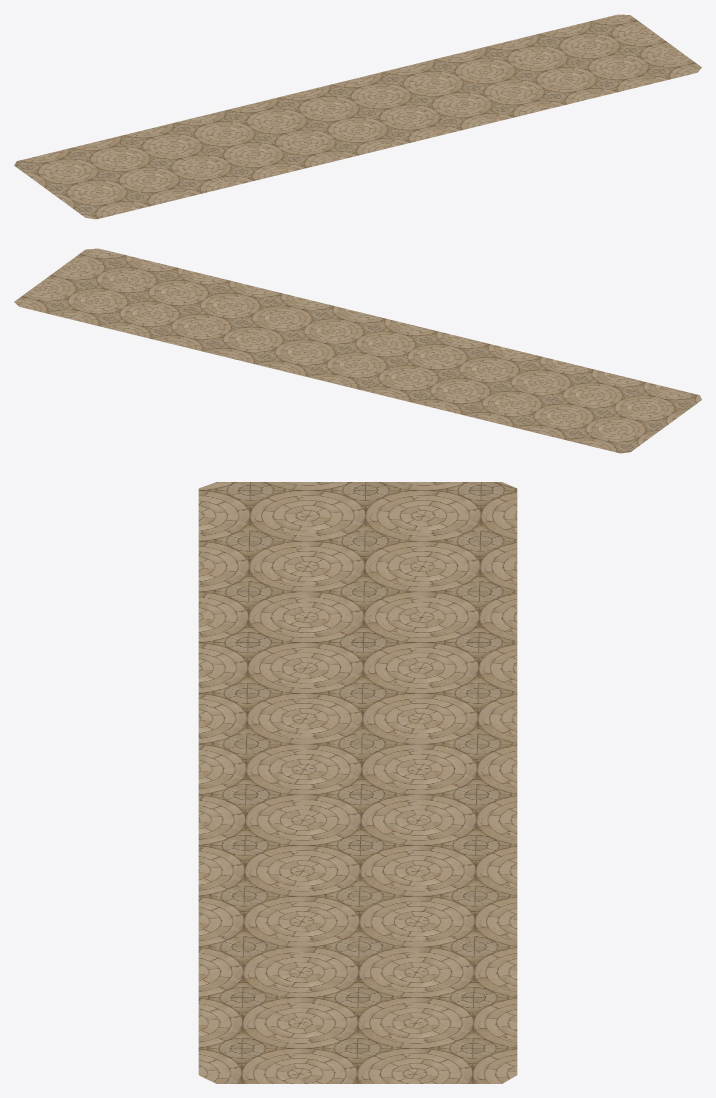
File: Floor10_Build_LostTemple_005.FBX
3 renders of one model, top to bottom at view 1: azimuth 30°, elevation 25°; view 2: azimuth 150°, elevation 25°; view 3: azimuth 270°, elevation 25°, orthographic. The views are drawn at different scales.
Parts seen in each view (by area): view 1: Floor10_Build_LostTemple_005; view 2: Floor10_Build_LostTemple_005; view 3: Floor10_Build_LostTemple_005.
Boxes of the visible parts, bbox=[...] form: Floor10_Build_LostTemple_005: bbox=[14, 14, 701, 219]; Floor10_Build_LostTemple_005: bbox=[14, 248, 701, 453]; Floor10_Build_LostTemple_005: bbox=[198, 482, 517, 1083].
Bounding box in the file's own units: 12314 × 0.00012 × 2754.
Materials: 1 (1 with a texture image).
